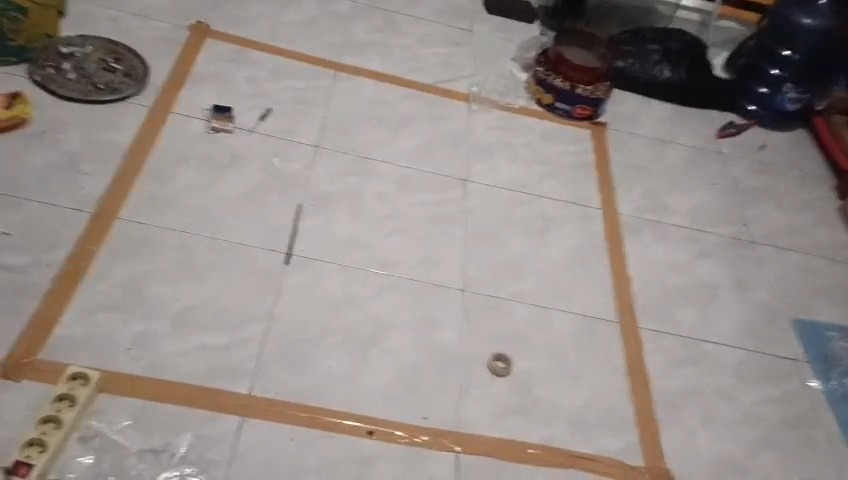floor marking: (102, 105, 673, 479), (0, 21, 469, 382)
